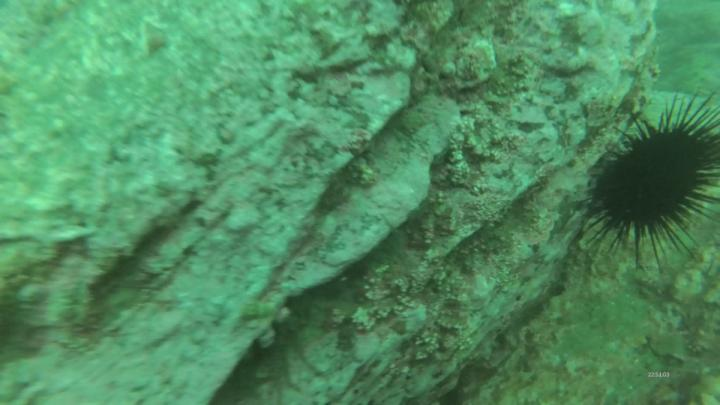starfish: (575, 86, 720, 263)
